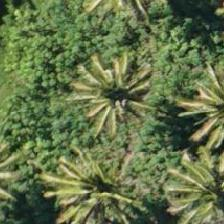coconut_tree: (65, 49, 155, 139), (54, 146, 144, 223), (172, 143, 223, 223)
